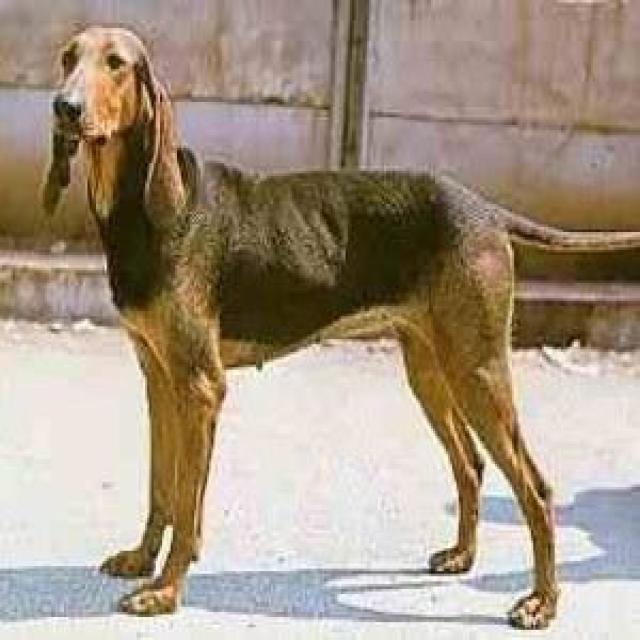bloodhound: (38, 23, 638, 630)
